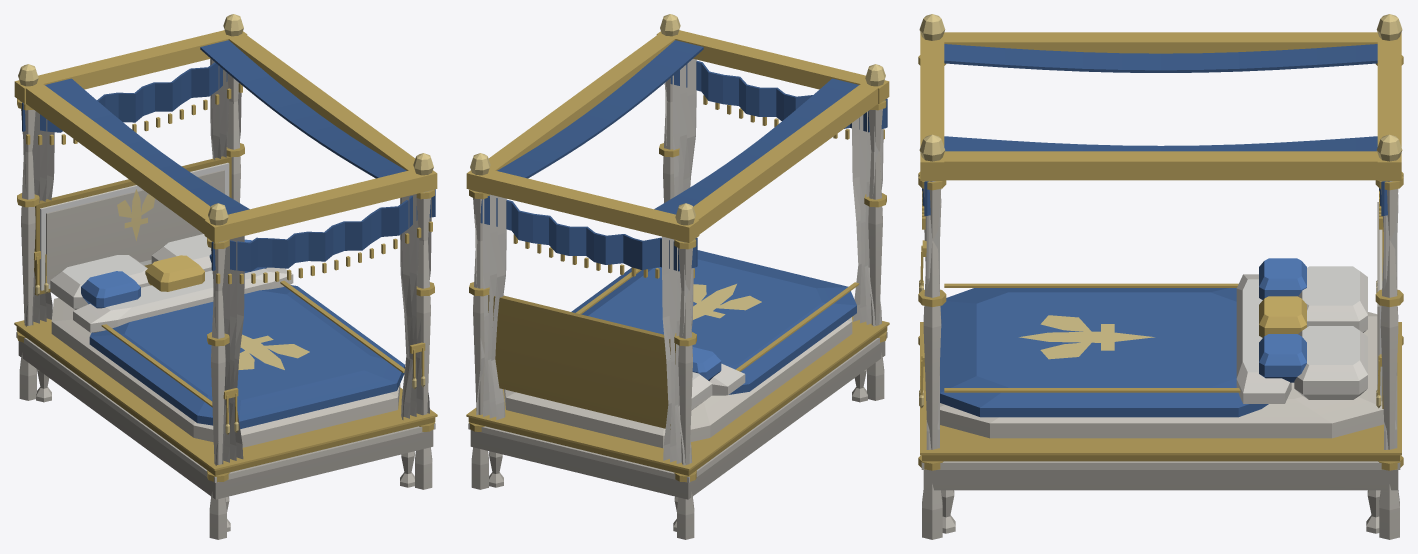
File: palace_bed_princess.glb
3 renders of one model, left to right at view 1: azimuth 30°, elevation 25°; view 2: azimuth 150°, elevation 25°; view 3: azimuth 270°, elevation 25°, orthographic. The views are drawn at different scales.
Parts seen in each view (by area): view 1: palace_bed_princess; view 2: palace_bed_princess; view 3: palace_bed_princess.
Part boxes in pixels (box(x1,y1,x2,y2)): palace_bed_princess: box(14, 14, 437, 539); palace_bed_princess: box(466, 14, 889, 539); palace_bed_princess: box(918, 14, 1403, 539).
Bounding box in the file's own units: 1.82 × 2.57 × 2.82.
